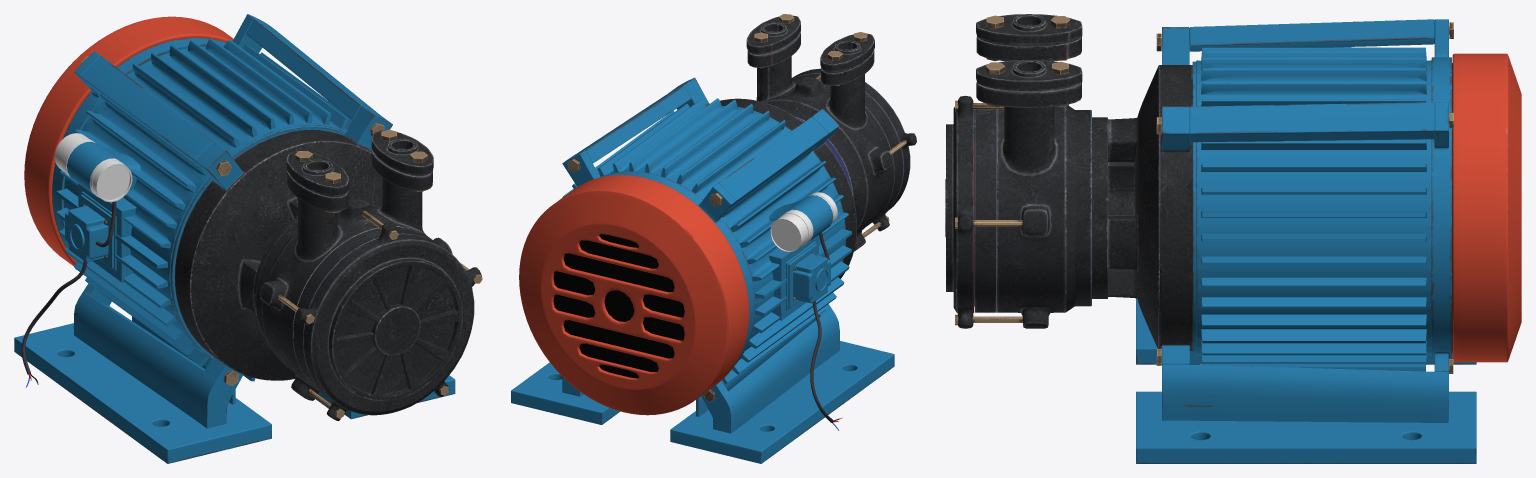
The model's file is machine.glb.
3 views of the same model, side by side, from view 1: azimuth 30°, elevation 25°; view 2: azimuth 150°, elevation 25°; view 3: azimuth 270°, elevation 25° (orthographic). The views are drawn at different scales.
Visible parts, largest first — view 1: polySurface107, polySurface106, pCube10, polySurface112, polySurface105, polySurface103, polySurface125, polySurface110, polySurface101, polySurface111; view 2: polySurface107, polySurface112, pCube10, pDisc5, polySurface105, polySurface110, polySurface106, polySurface103, polySurface125, polySurface101, polySurface111; view 3: polySurface107, polySurface112, pCube10, polySurface106, polySurface103, polySurface125, pCylinder19.
Part boxes in pixels (x1,y1,x2,y2): polySurface107: [52, 14, 452, 428]; polySurface106: [295, 223, 482, 421]; pCube10: [14, 323, 455, 463]; polySurface112: [24, 16, 233, 265]; polySurface105: [65, 183, 136, 282]; polySurface103: [293, 227, 436, 393]; polySurface125: [81, 56, 482, 418]; polySurface110: [54, 133, 132, 202]; polySurface101: [67, 141, 140, 197]; polySurface111: [21, 201, 116, 374]; polySurface107: [562, 15, 894, 433]; polySurface112: [519, 175, 749, 415]; pCube10: [511, 341, 894, 463]; pDisc5: [553, 234, 684, 378]; polySurface105: [768, 235, 830, 320]; polySurface110: [770, 192, 837, 252]; polySurface106: [791, 68, 916, 231]; polySurface103: [791, 73, 903, 220]; polySurface125: [567, 14, 907, 401]; polySurface101: [769, 195, 833, 243]; polySurface111: [810, 232, 833, 422]; polySurface107: [976, 14, 1452, 422]; polySurface112: [1452, 53, 1521, 362]; pCube10: [1136, 298, 1476, 463]; polySurface106: [945, 95, 973, 328]; polySurface103: [974, 109, 996, 312]; polySurface125: [955, 15, 1453, 373]; pCylinder19: [1108, 190, 1135, 215].
Size of the model in its own units: 0.3506 by 0.3173 by 0.482.
1 material, 1 textured.
